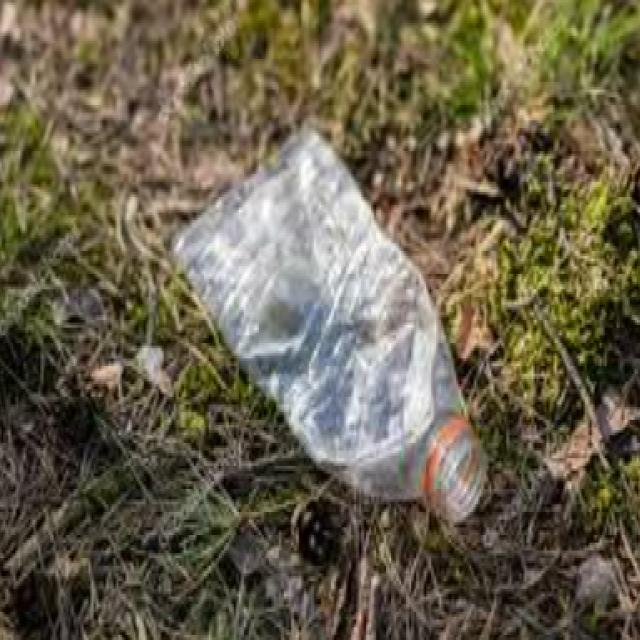GelasPlastik: (169, 118, 488, 525)
